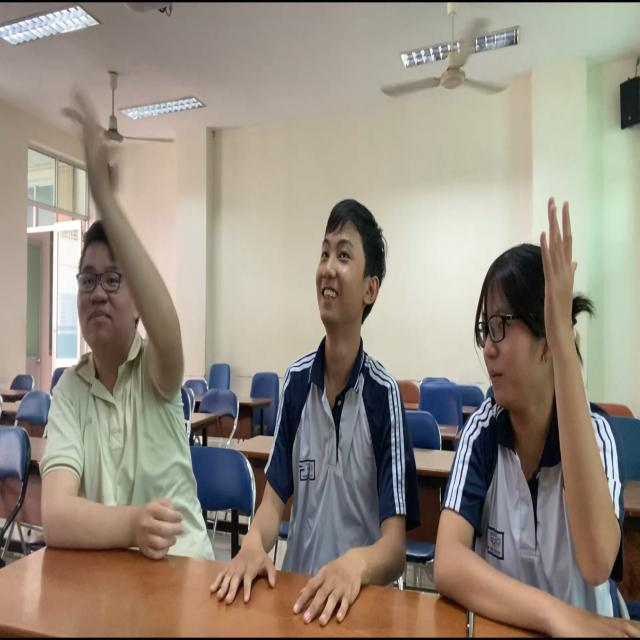raise_hand: (427, 26, 640, 640), (13, 72, 229, 563)
